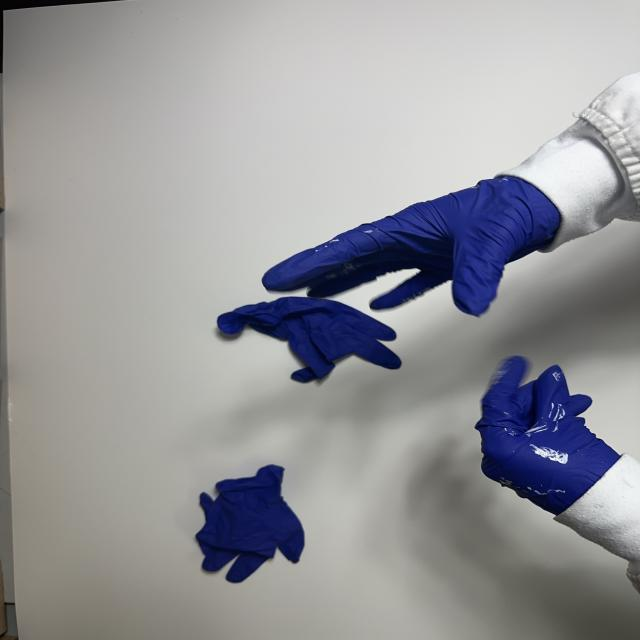gloves_contaminated: (264, 178, 560, 316), (476, 356, 620, 514)
